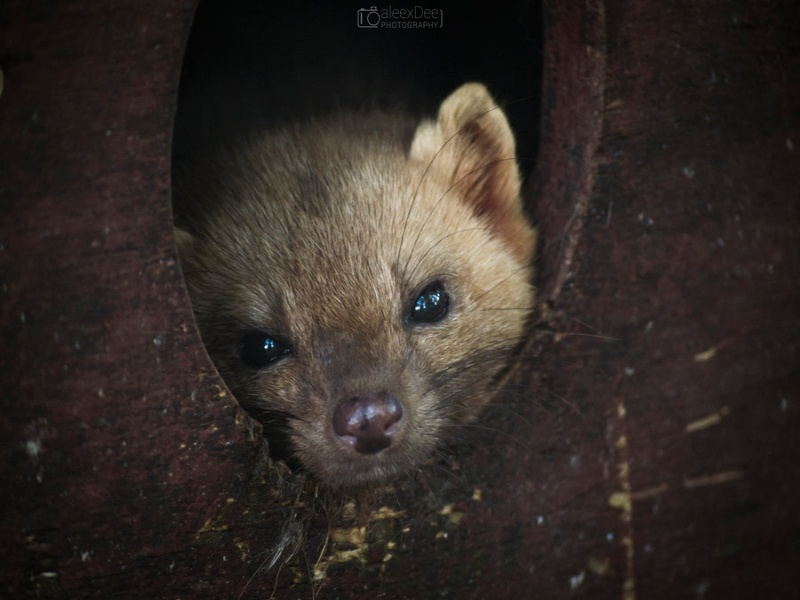minkish: (142, 73, 562, 500)
